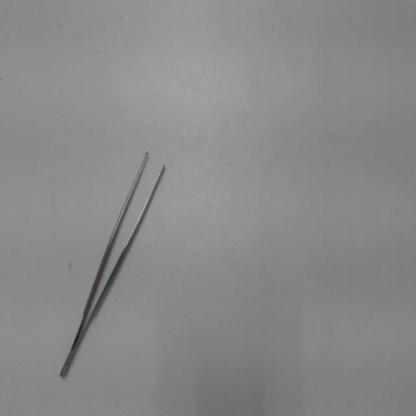Gillies Toothed Dissector: (52, 139, 180, 388)
